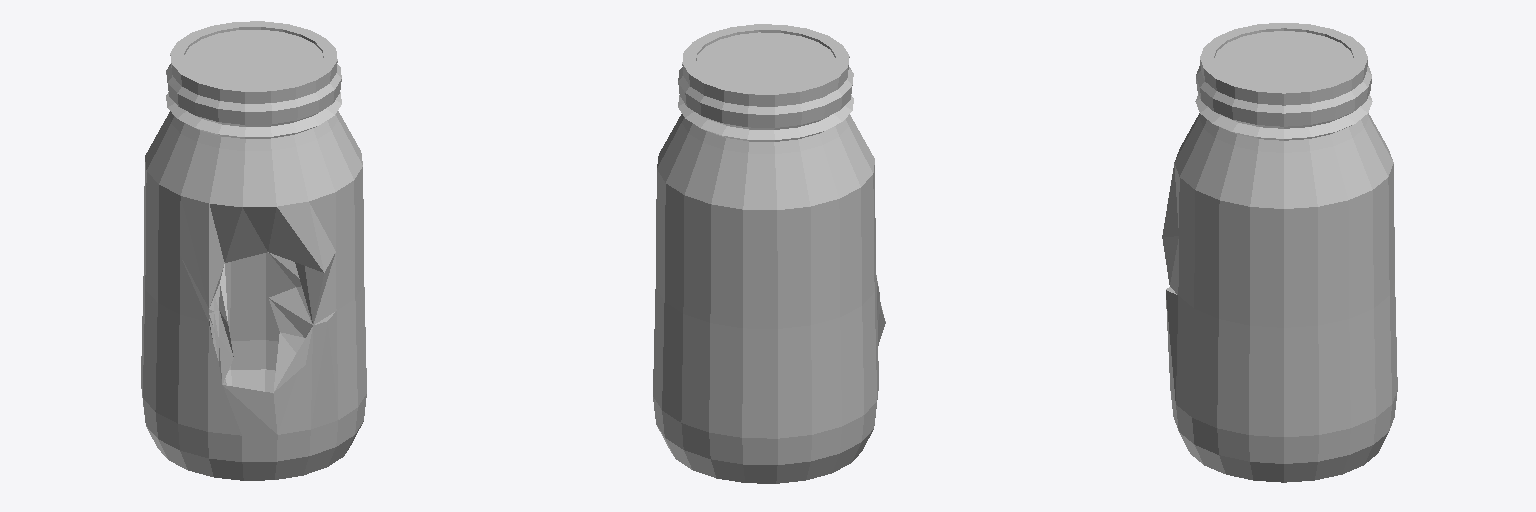
The model's file is Cracked Mason Jar.obj.
The picture shows the model from 3 angles: view 1: azimuth 30°, elevation 25°; view 2: azimuth 150°, elevation 25°; view 3: azimuth 270°, elevation 25°; orthographic projection.
Parts seen in each view (by area): view 1: Cylinder_Cylinder.002; view 2: Cylinder_Cylinder.002; view 3: Cylinder_Cylinder.002.
Part boxes in pixels (bbox=[...]): Cylinder_Cylinder.002: bbox=[141, 21, 366, 480]; Cylinder_Cylinder.002: bbox=[653, 24, 885, 483]; Cylinder_Cylinder.002: bbox=[1162, 23, 1397, 482].
Bounding box in the file's own units: 2.41 × 4.62 × 2.49.